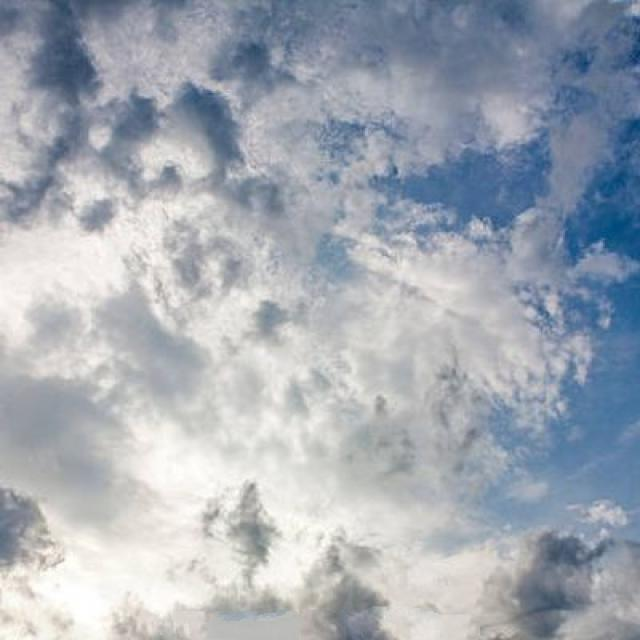Ns: (1, 24, 640, 536)
